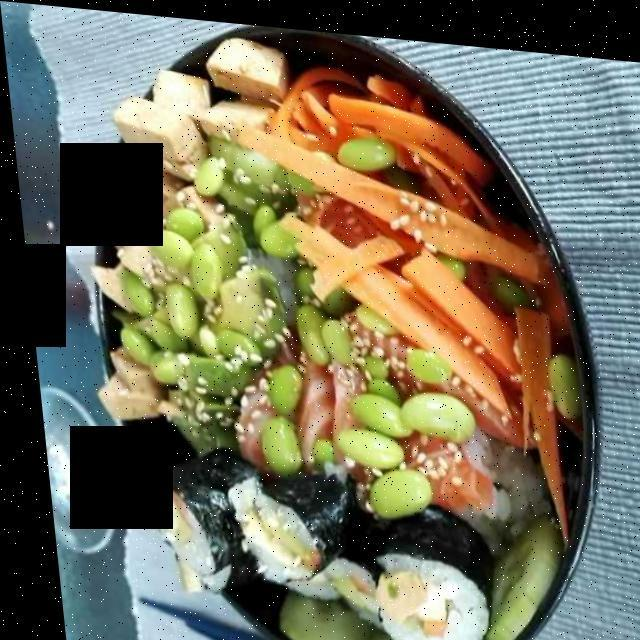carrot: (279, 51, 558, 517)
cucumber: (455, 512, 560, 640), (261, 584, 400, 640)
rice: (443, 396, 551, 543)
salmon: (226, 184, 509, 504)
sesame-seeds: (127, 126, 501, 509)
sushi: (121, 473, 505, 640)
tofu: (82, 25, 301, 433)
